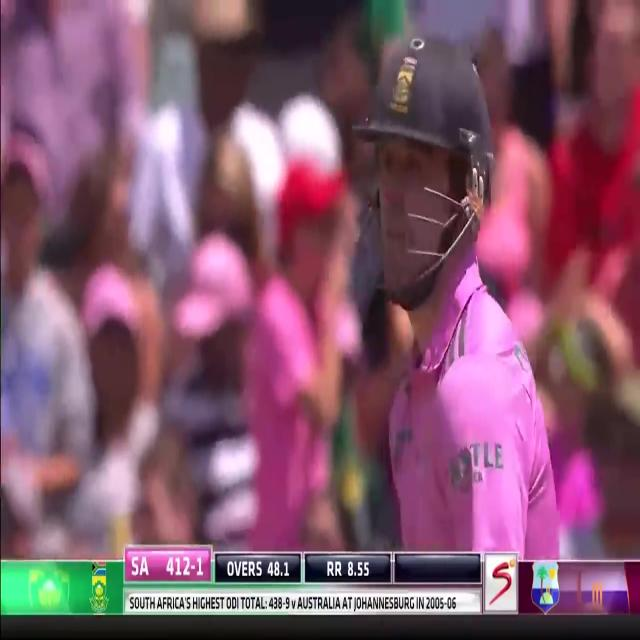Ball: (342, 25, 566, 555)
